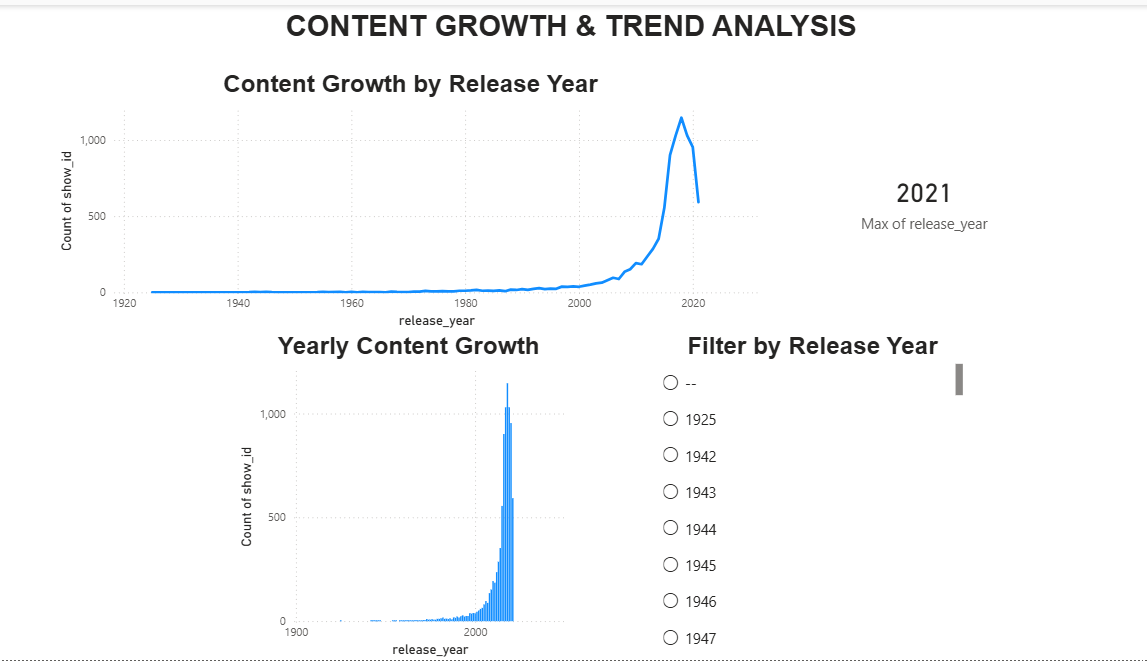

What the dashboard file says about the page in this screenshot:
{"tool":"powerbi","page":{"name":"Content Growth & Trend Analysis","canvas":[1280,720],"ordinal":2},"visuals":[{"type":"lineChart","title":"Content Growth by Release Year","fields":{"Category":["Netflix _DATA.release_year"],"Y":["CountNonNull(Netflix _DATA.show_id)"]},"box":[60.4,71.4,780.8,288.2],"z":0},{"type":"clusteredColumnChart","title":"Yearly Content Growth","fields":{"Category":["Netflix _DATA.release_year"],"Y":["CountNonNull(Netflix _DATA.show_id)"]},"box":[258,359.5,381.5,360.9],"z":1000},{"type":"card","fields":{"Values":["Max(Netflix _DATA.release_year)"]},"box":[891.9,91.9,245.6,247],"z":2000},{"type":"listSlicer","title":"Filter by Release Year","fields":{"Values":["Netflix _DATA.release_year"]},"box":[721.8,359.5,340.3,360.9],"z":3000},{"type":"textbox","box":[9.6,0,1235,56.3],"z":4000}]}

Visuals, with their boxes in screenshot pixels (x1, y1, x2, y2), scaled from the page's 1280x720 canvas onto the 1147x661 screenshot:
"Content Growth by Release Year" lineChart: (54, 66, 754, 330)
"Yearly Content Growth" clusteredColumnChart: (231, 330, 573, 660)
card - Max(Netflix _DATA.release_year): (799, 84, 1019, 311)
"Filter by Release Year" listSlicer: (647, 330, 952, 660)
textbox: (9, 0, 1115, 52)
